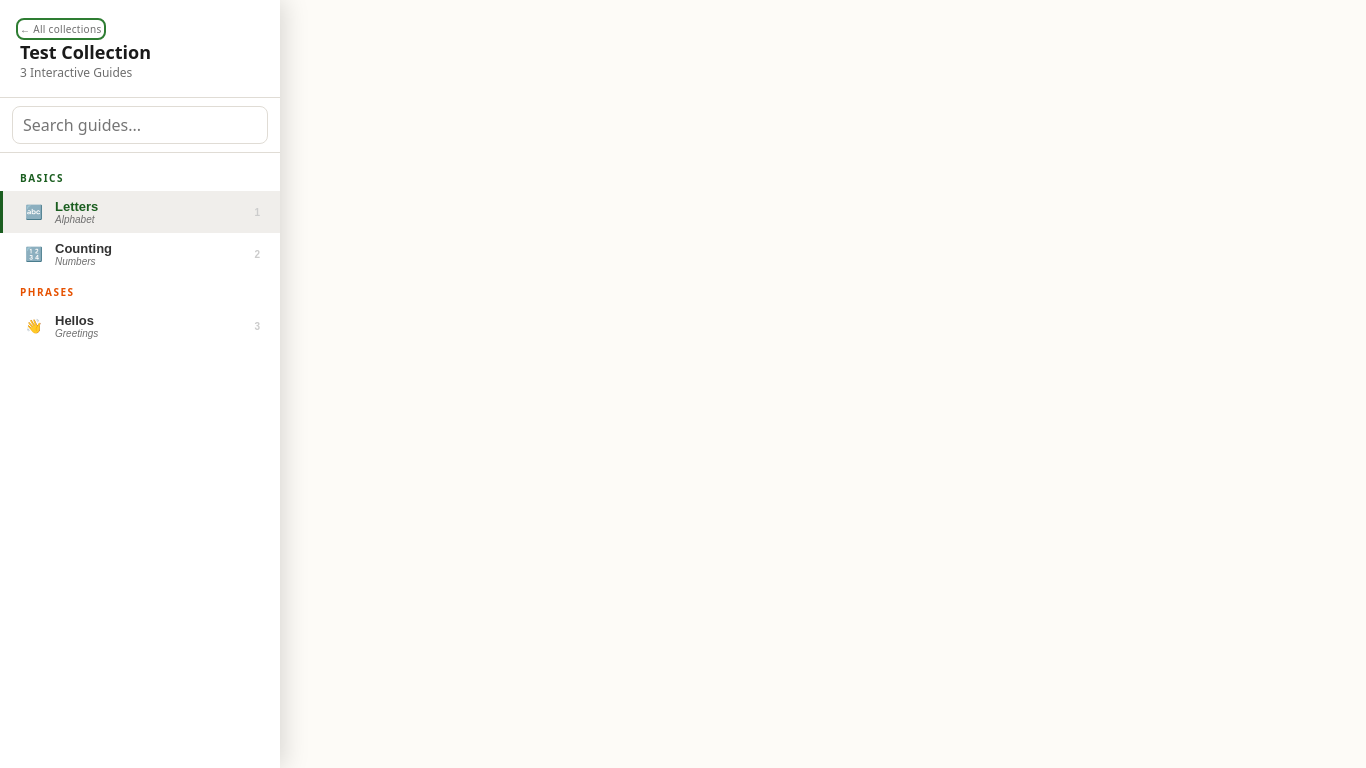
Test case: GuideSidebar › shows "No guides found" when search matches nothing
Type "xyzabc123notexist" into the field with placeholder "Search guides..." at {"x": 140, "y": 125}, box [12,106,268,144]
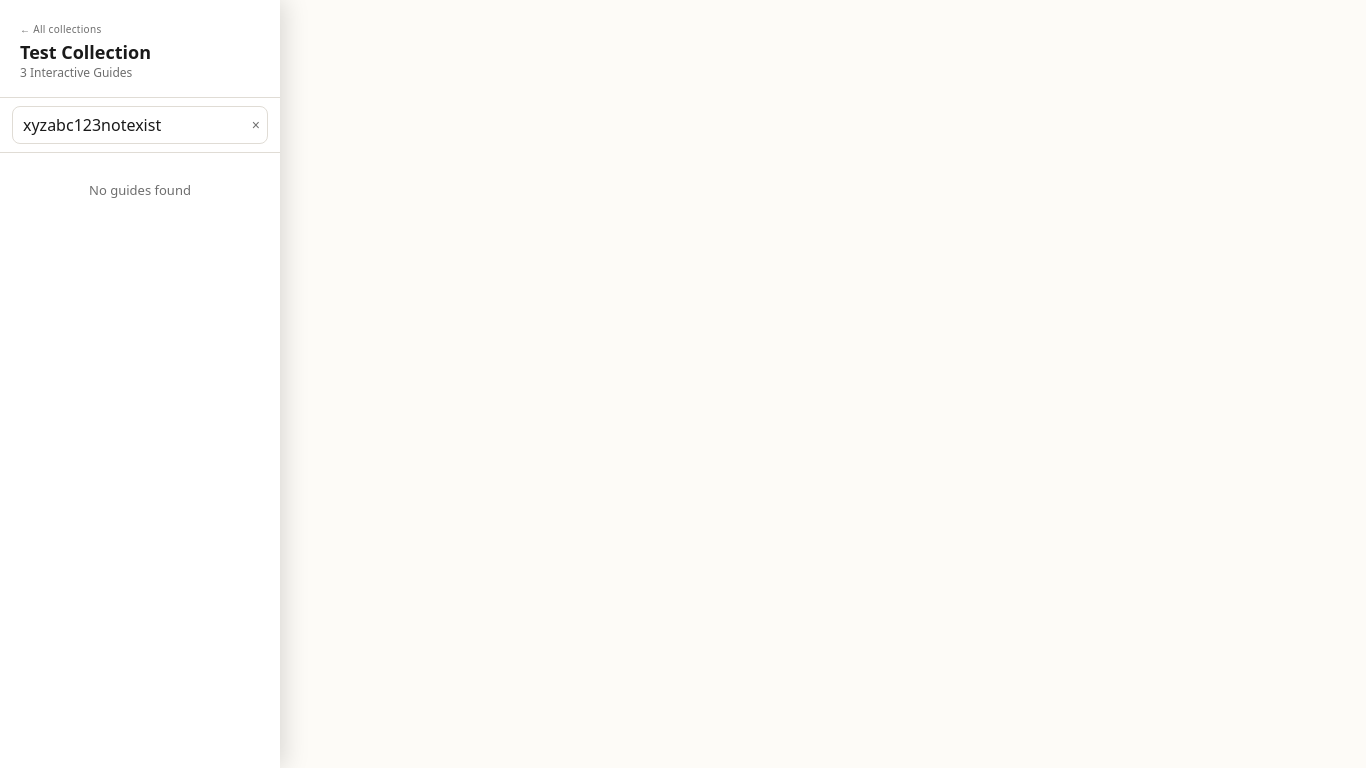
Result: the text "No guides found" is shown at [89,181,191,199]
